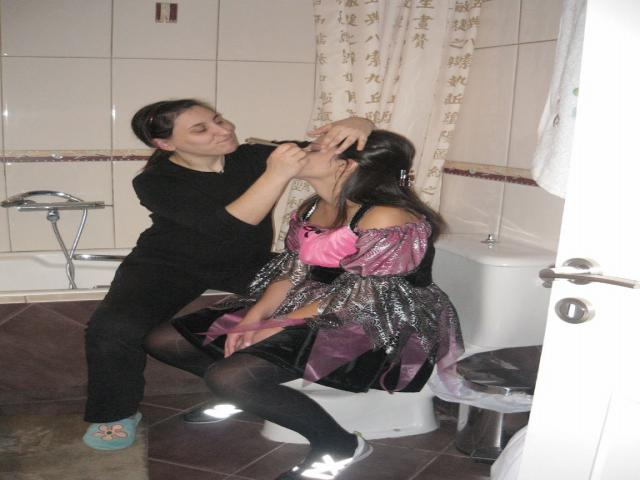Door-handle: (539, 257, 638, 289)
